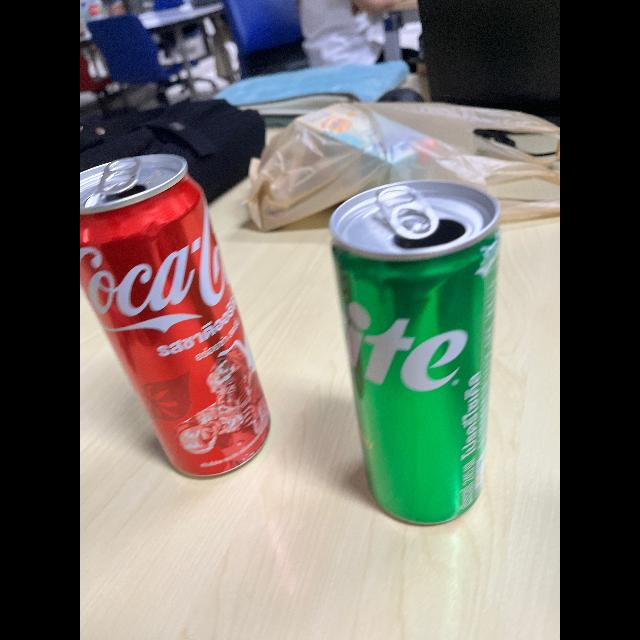can: (80, 142, 276, 494), (348, 187, 516, 525)
